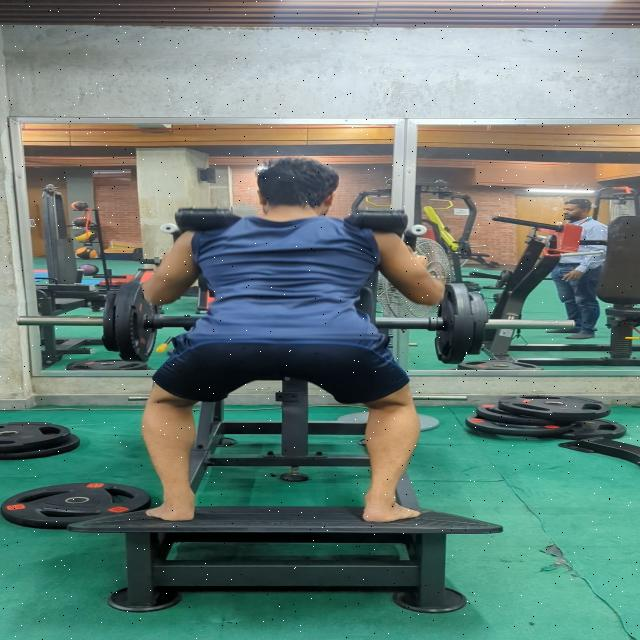Normal_SquatsWithBarbell: (130, 141, 474, 536)
